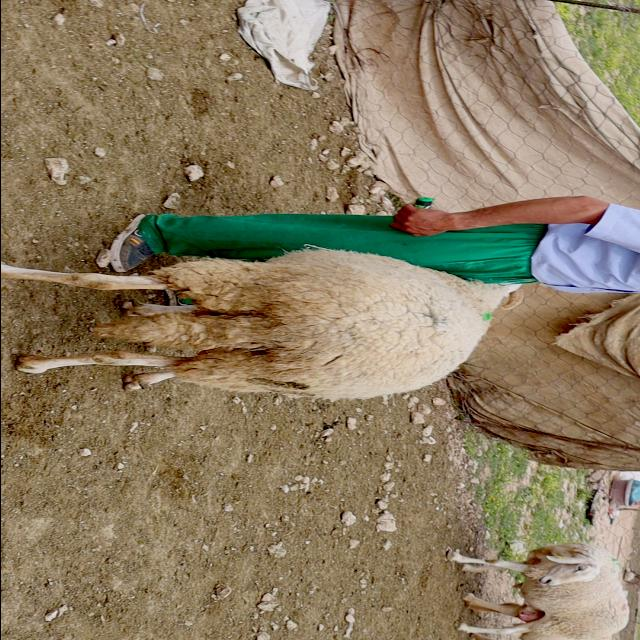Score_5: (1, 246, 522, 399)
